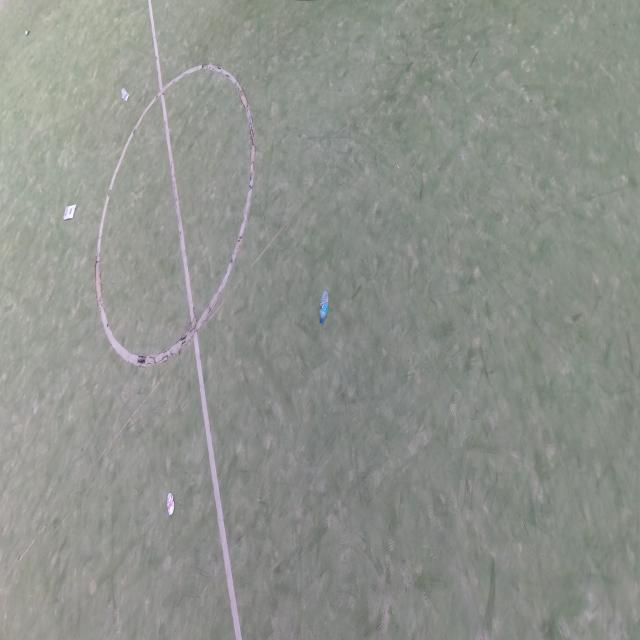rubbish: (319, 291, 329, 324), (63, 202, 77, 220), (167, 493, 175, 517), (120, 87, 130, 102), (23, 29, 30, 37)
